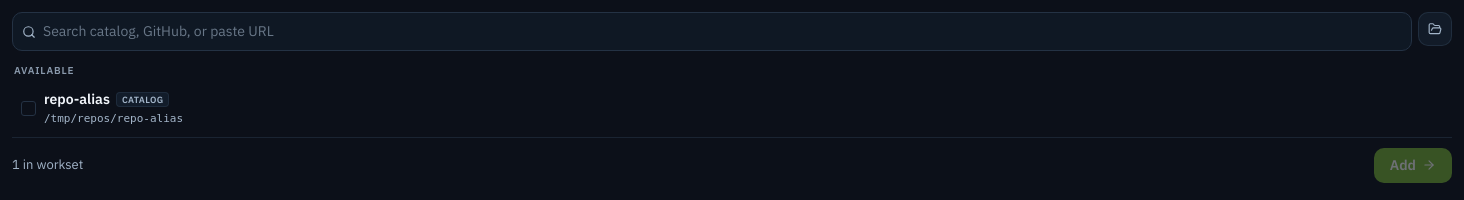
Test: WorkspaceActionAddRepoForm › enables continue when a valid direct source is pending
Step 1. Type "git@github.com:strantalis/platform.git" into the field with placeholder "Search catalog, GitHub, or paste URL" → (712, 32), box [12,12,1412,51]
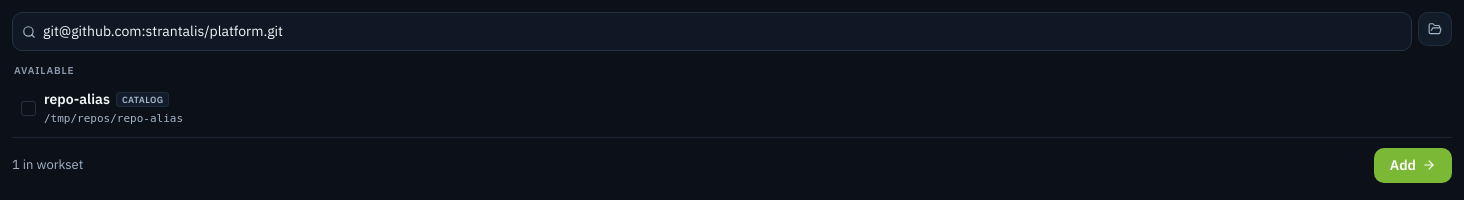
Expected: the button "Add" is enabled, [1374,148,1452,182]
